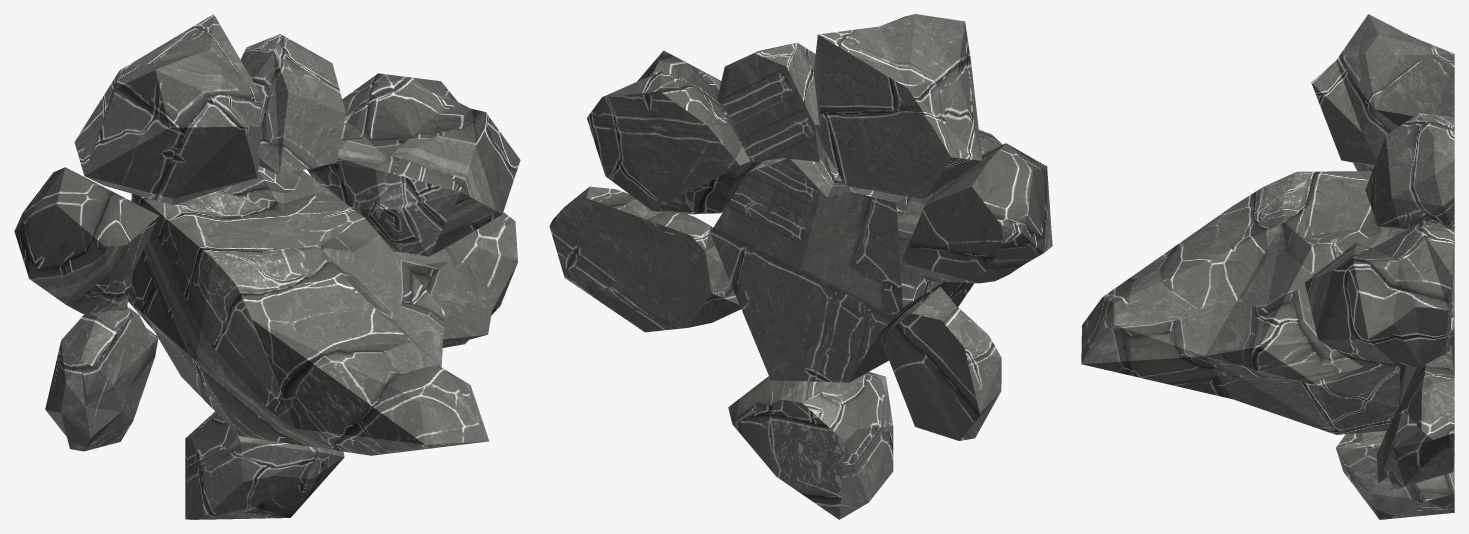
The model's file is bigrock.obj.
The picture shows the model from 3 angles, left to right: view 1: azimuth 30°, elevation 25°; view 2: azimuth 150°, elevation 25°; view 3: azimuth 270°, elevation 25°; orthographic projection. The views are drawn at different scales.
Parts seen in each view (by area): view 1: bigrock:Mesh; view 2: bigrock:Mesh; view 3: bigrock:Mesh.
Part boxes in pixels (x1,y1,x2,y2): bigrock:Mesh: [14, 14, 520, 519]; bigrock:Mesh: [549, 14, 1052, 519]; bigrock:Mesh: [1081, 14, 1454, 519].
Size of the model in its own units: 121 by 118 by 86.64.
